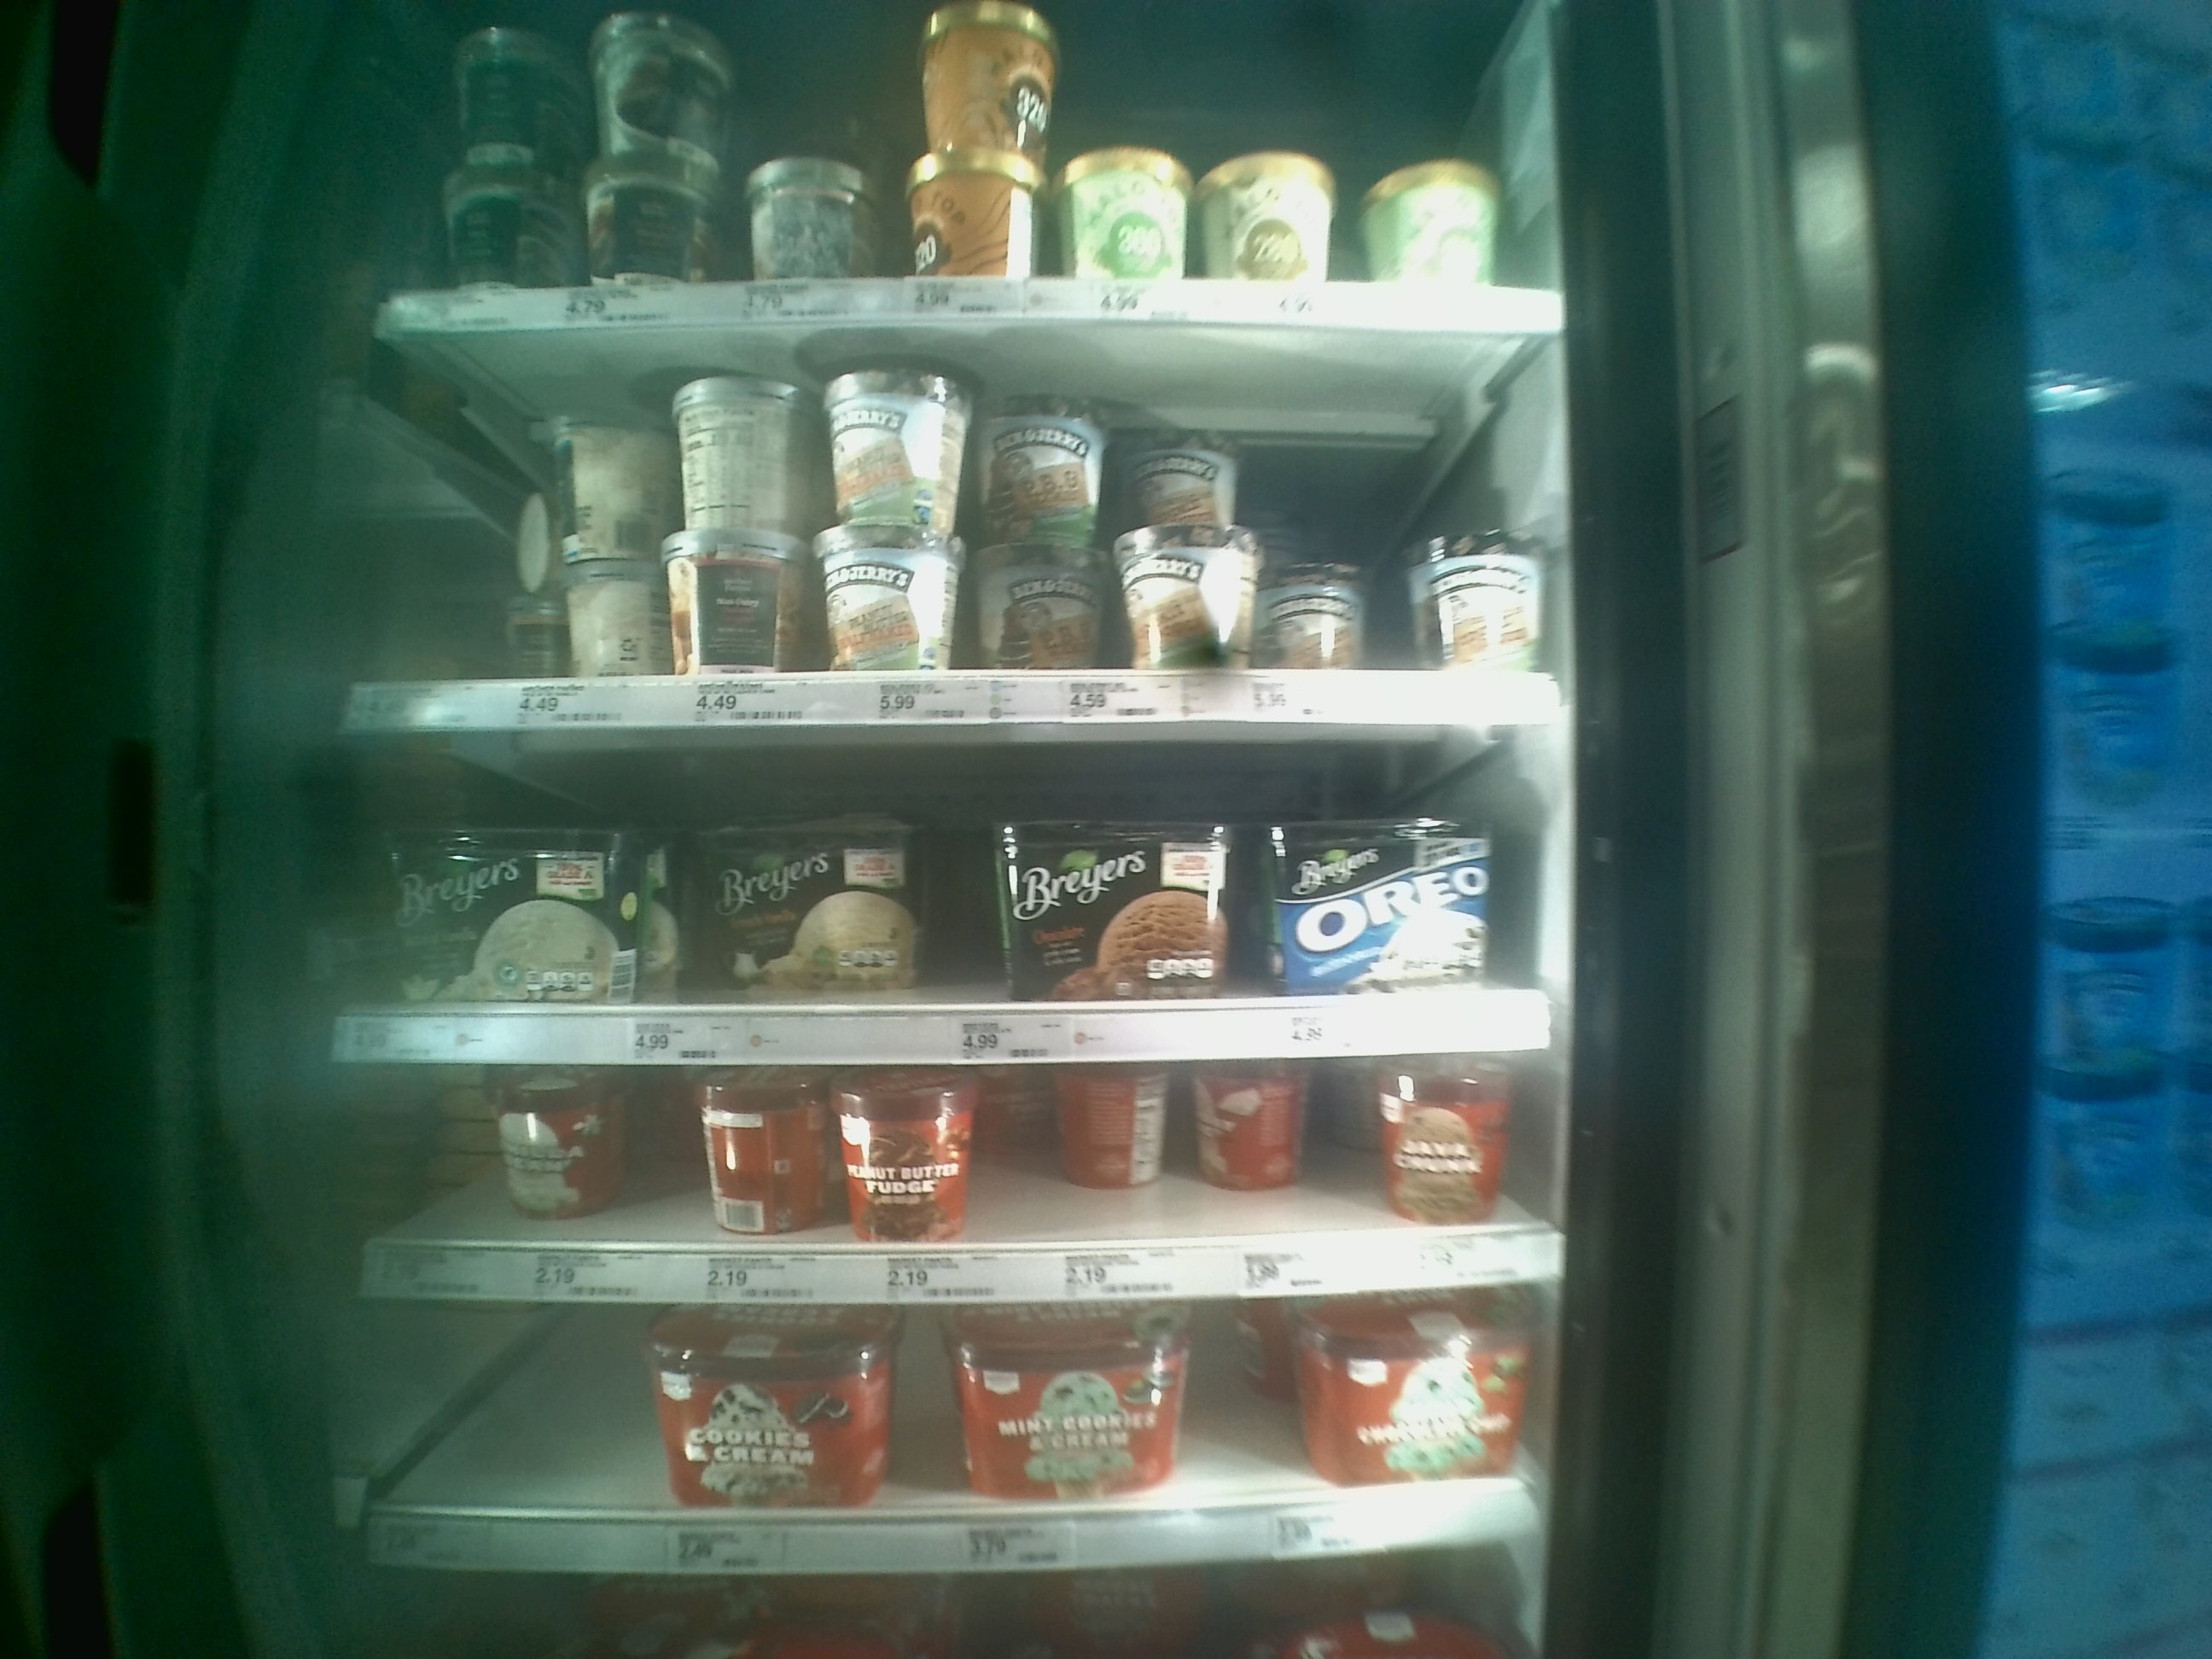shelf: (343, 328, 1581, 727), (347, 727, 1571, 1058), (352, 1288, 1555, 1575), (336, 1065, 1569, 1297)
